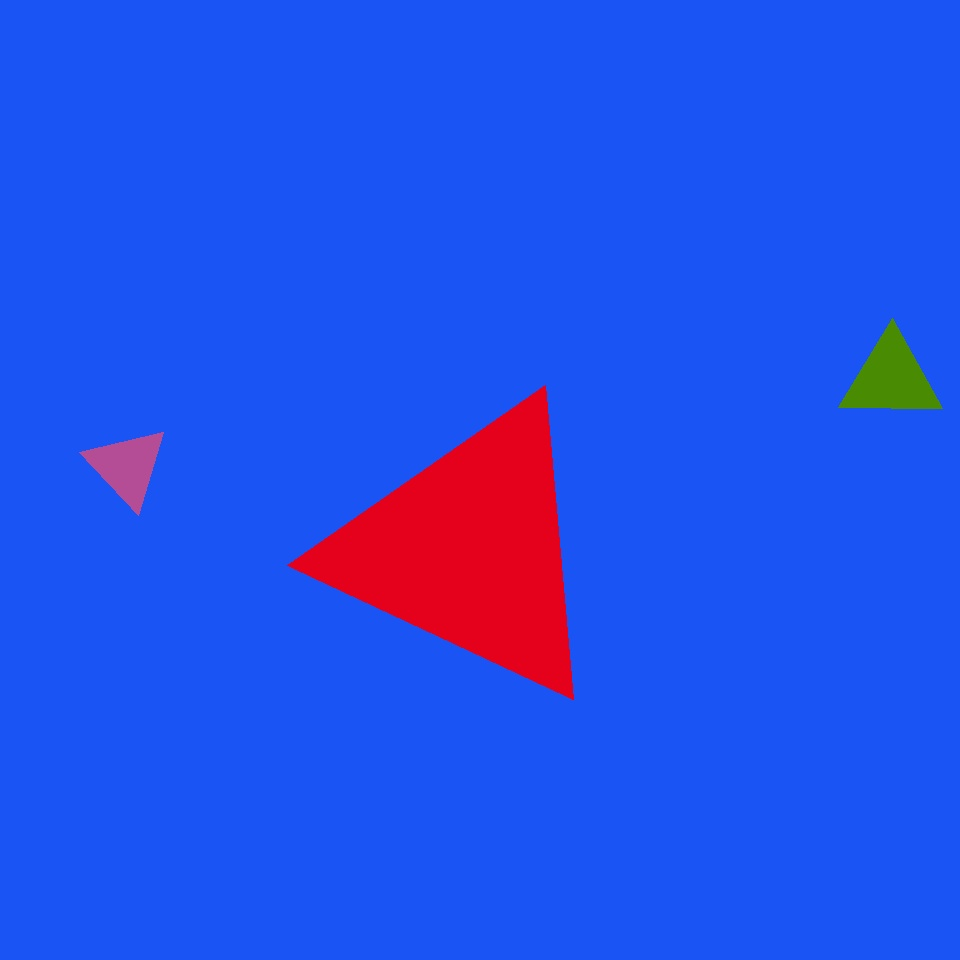circle: (326, 393, 612, 707), (839, 333, 943, 423), (85, 426, 169, 508)
